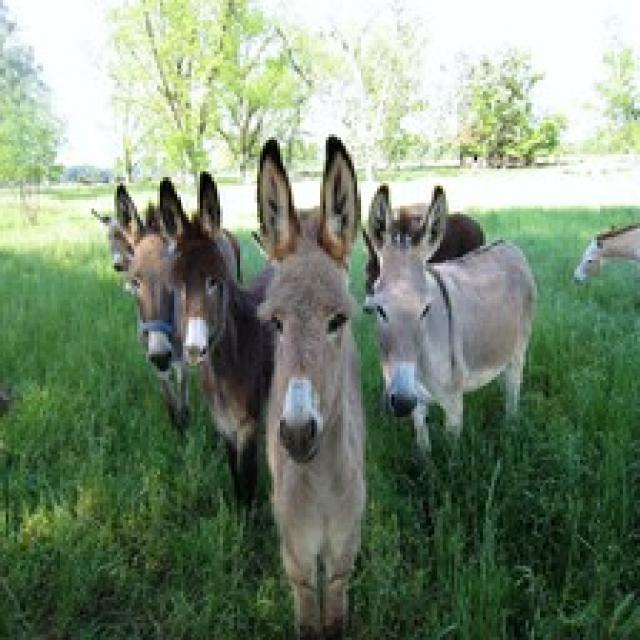Donkey: (228, 90, 406, 640), (360, 180, 537, 474), (157, 168, 274, 518), (92, 180, 192, 440)
